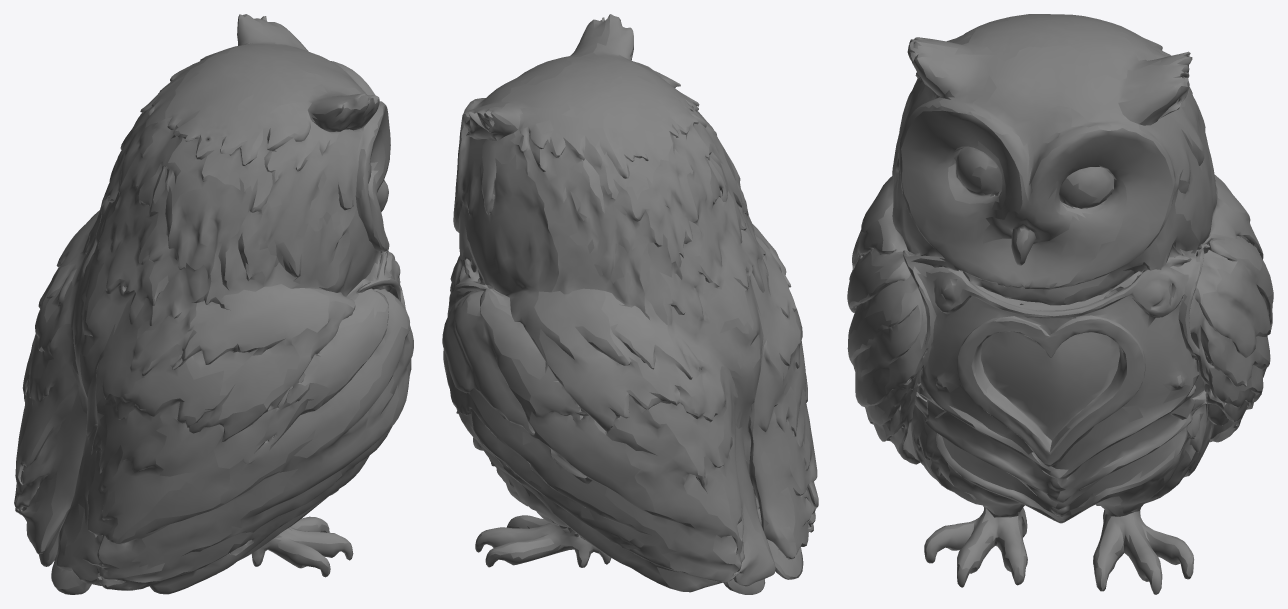
The model's file is completion_owl_2.glb.
3 views of the same model, side by side, from view 1: azimuth 30°, elevation 25°; view 2: azimuth 150°, elevation 25°; view 3: azimuth 270°, elevation 25° (orthographic). The views are drawn at different scales.
Visible parts, largest first — view 1: geometry_0; view 2: geometry_0; view 3: geometry_0.
Part boxes in pixels (x1=…): geometry_0: x1=14, y1=14, x2=413, y2=594; geometry_0: x1=442, y1=14, x2=818, y2=594; geometry_0: x1=847, y1=14, x2=1273, y2=594.
Bounding box in the file's own units: 0.7004 × 0.9914 × 0.707.
Materials: 1 (1 with a texture image).
